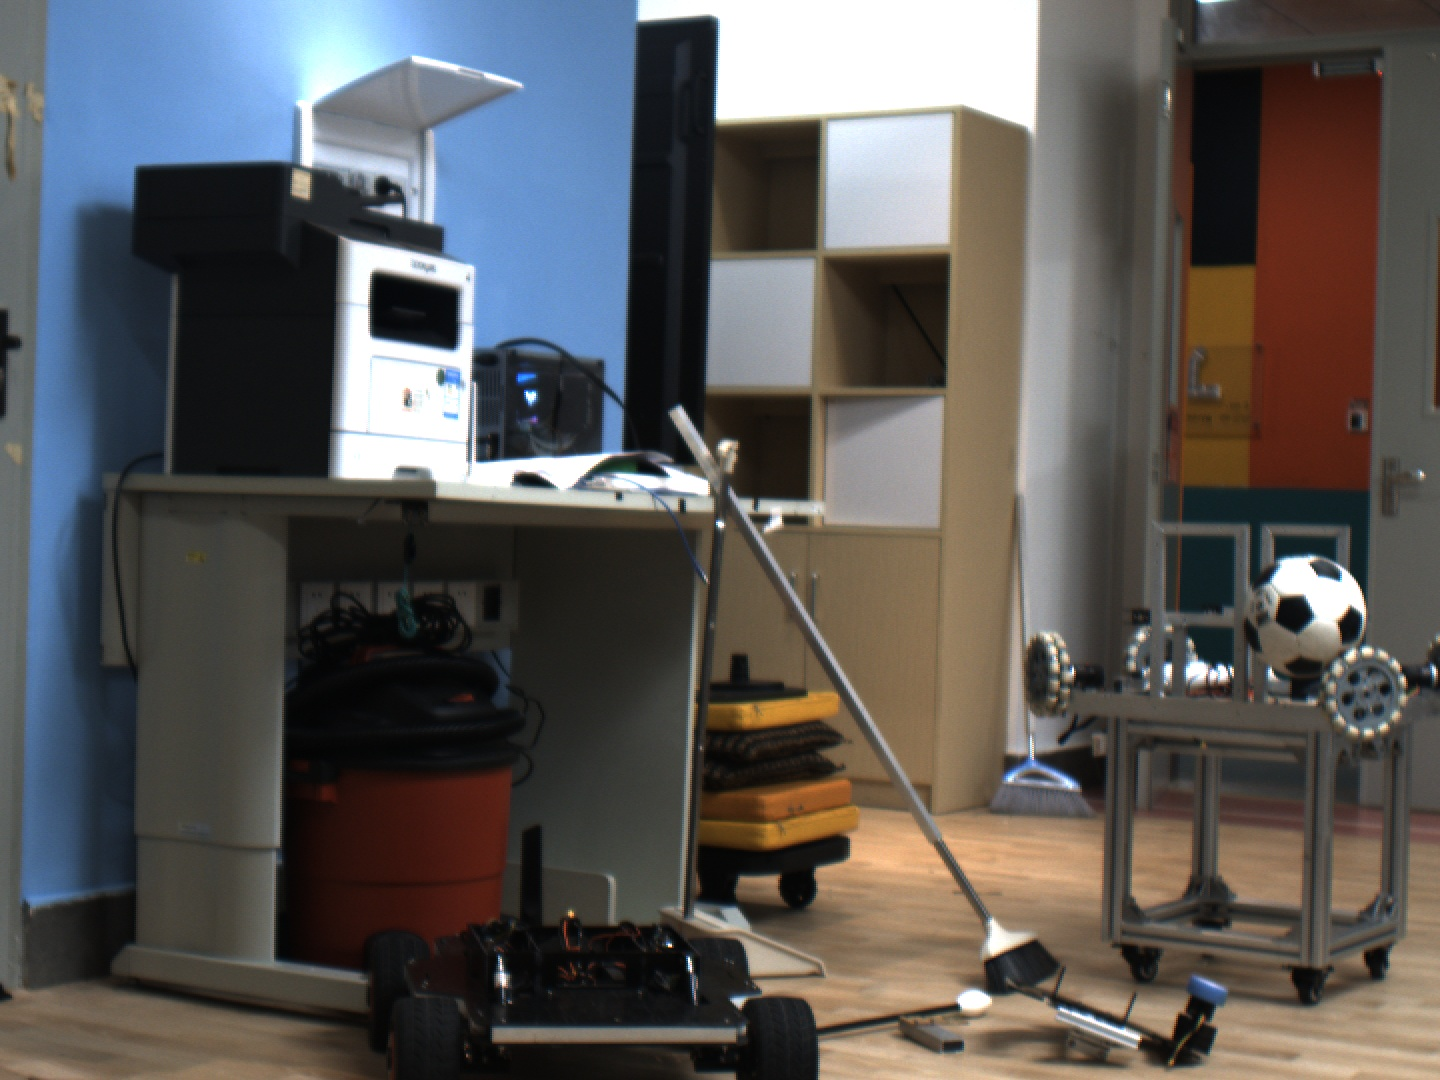ball: (1217, 526, 1394, 695)
